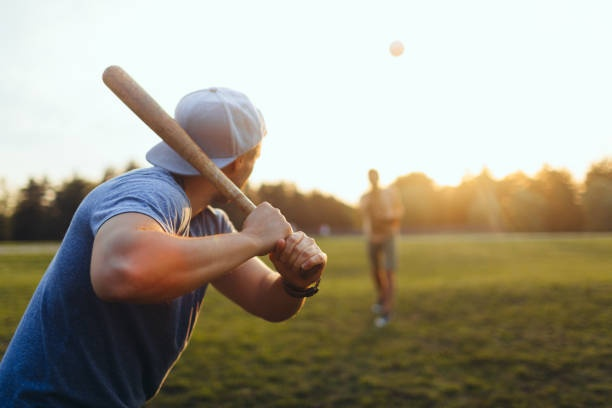bita: (97, 61, 325, 258)
